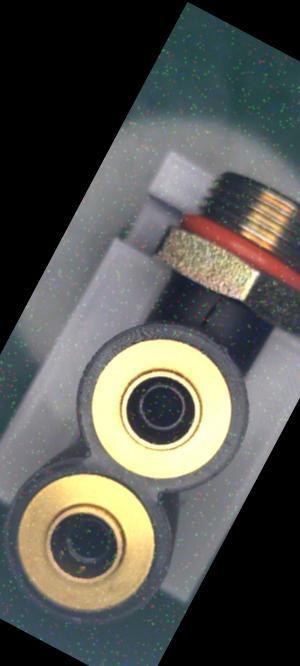craze: (192, 291, 228, 335)
